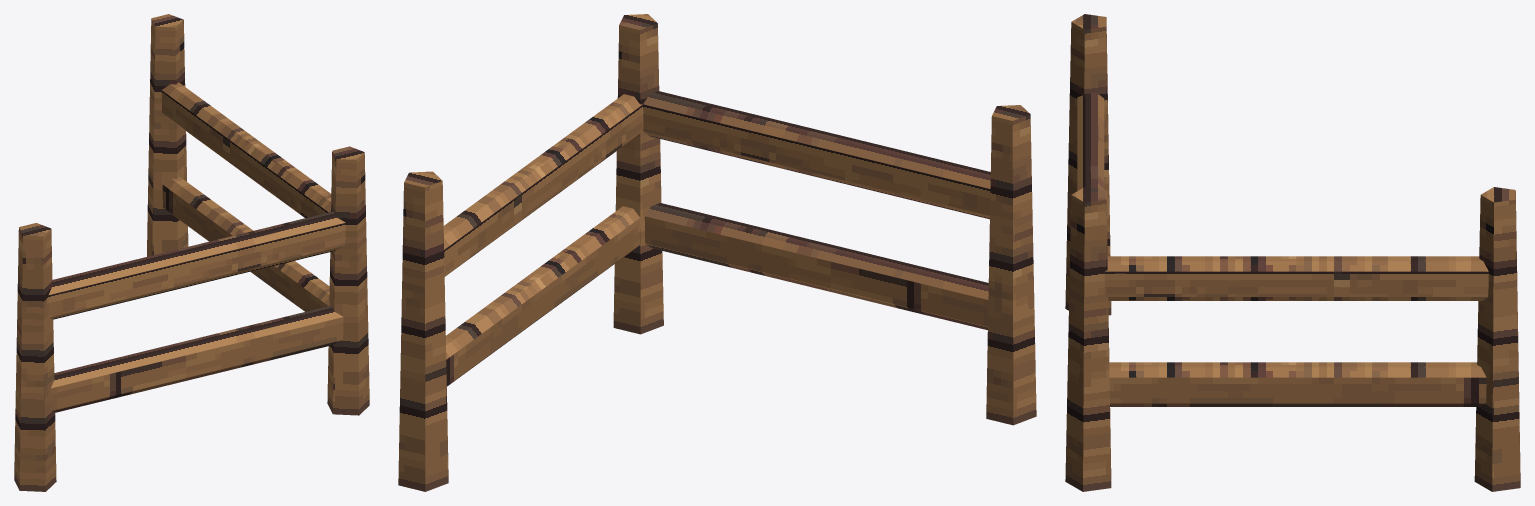
Rendered from enfeite_cerca_canto.glb.
3 views of the same model, side by side, from view 1: azimuth 30°, elevation 25°; view 2: azimuth 150°, elevation 25°; view 3: azimuth 270°, elevation 25° (orthographic). The views are drawn at different scales.
Visible parts, largest first — view 1: bosque_enfeite_cerca_canto; view 2: bosque_enfeite_cerca_canto; view 3: bosque_enfeite_cerca_canto.
Part boxes in pixels (x1=…): bosque_enfeite_cerca_canto: x1=14, y1=14, x2=369, y2=491; bosque_enfeite_cerca_canto: x1=398, y1=14, x2=1036, y2=491; bosque_enfeite_cerca_canto: x1=1065, y1=14, x2=1520, y2=491.
Size of the model in its own units: 0.9389 by 0.65 by 0.9341.
Materials: 1 (1 with a texture image).
